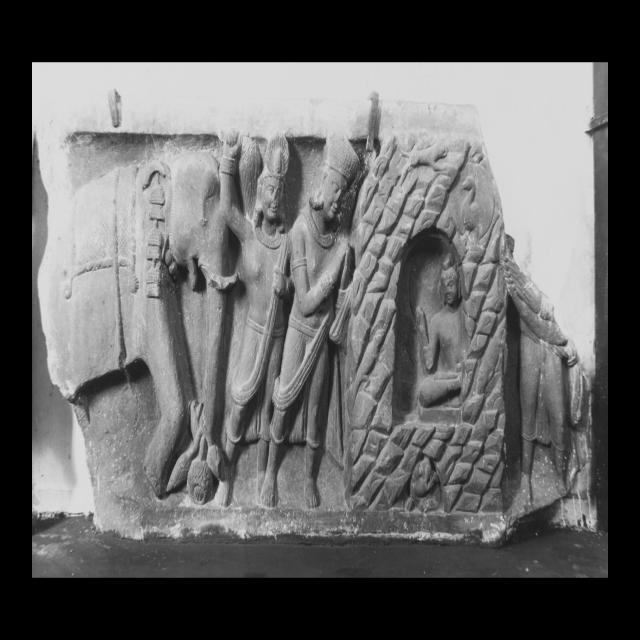buddha-sitting: (417, 255, 468, 409)
